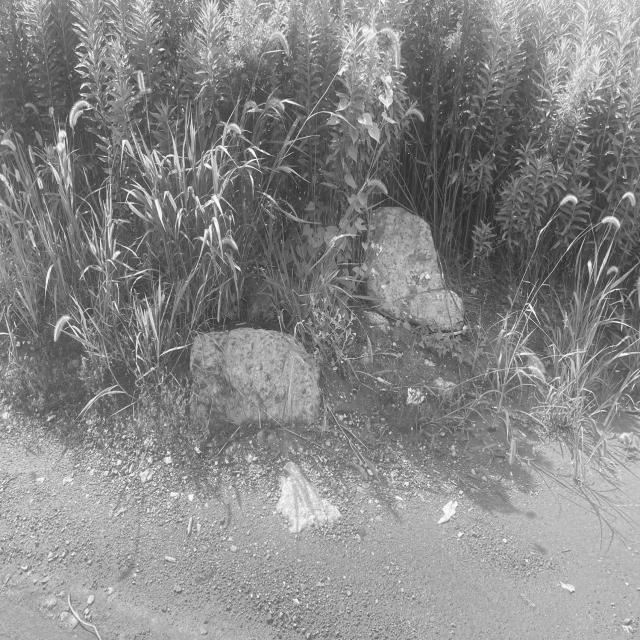Stone: (190, 328, 320, 426), (368, 208, 464, 330)
